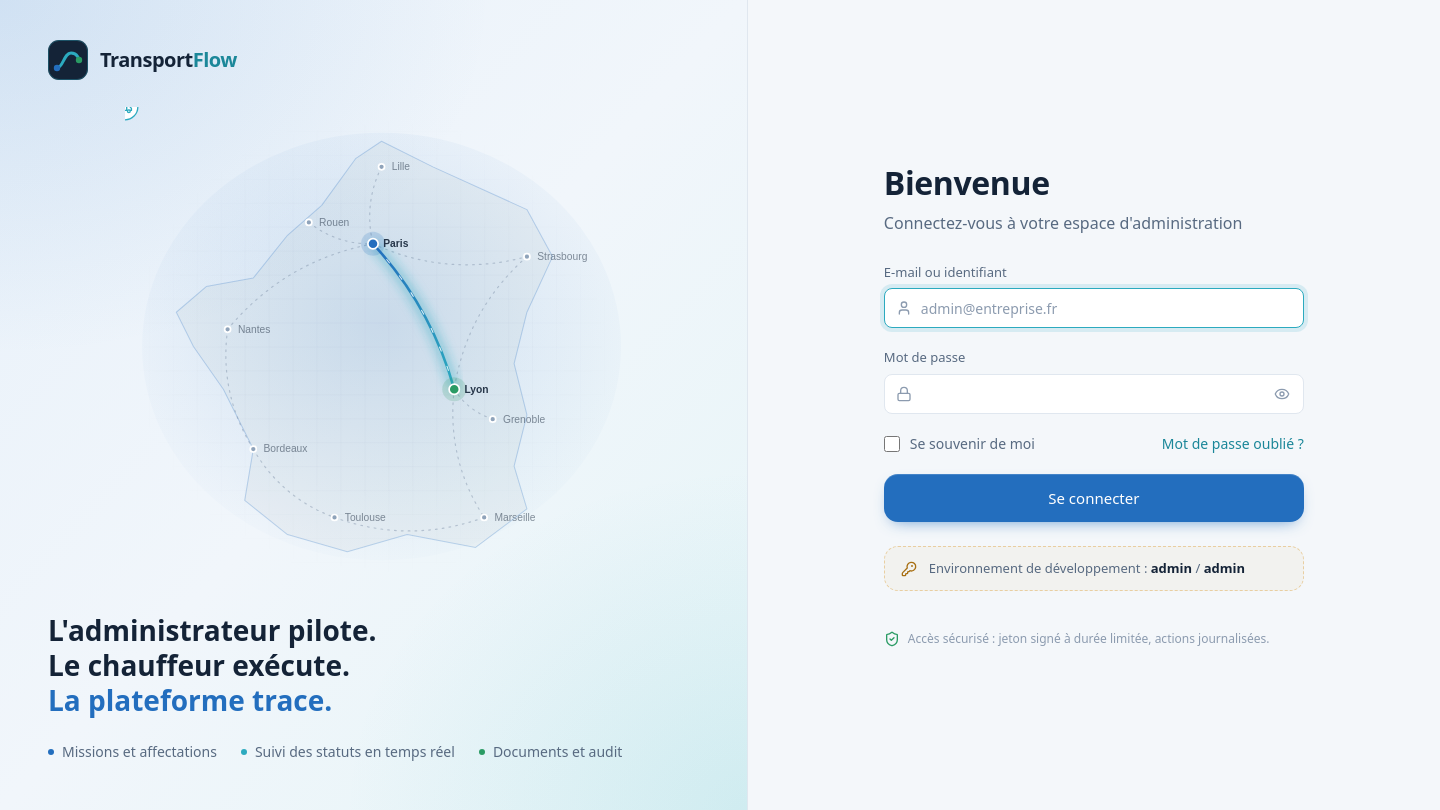
Test: Connexion › valide les champs avant tout appel API
The image size is (1440, 810).
Click the button "Se connecter": [1094, 498] box [884,474,1304,522]
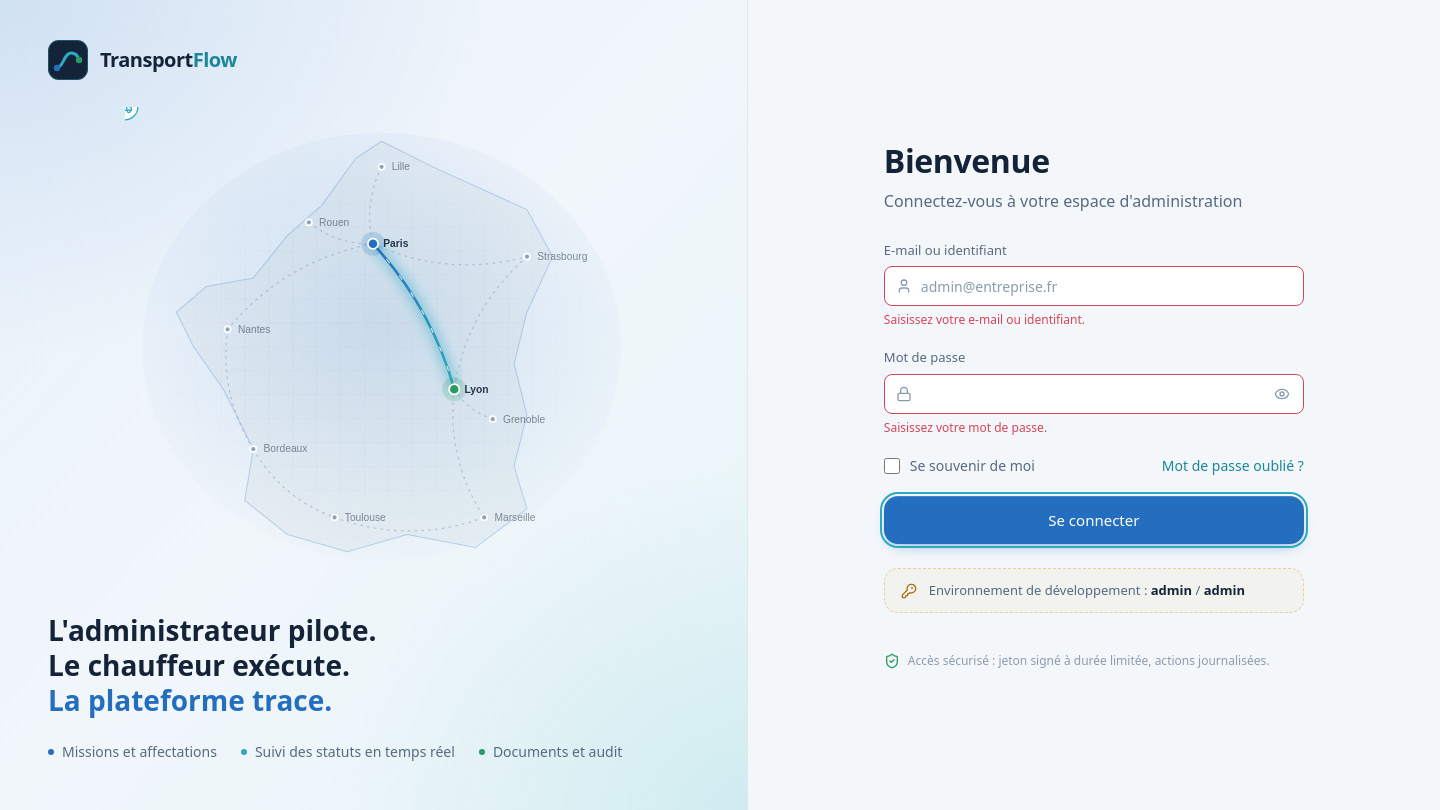
Expected: the text "Saisissez votre e-mail ou identifiant." is shown, [884,311,1085,328]
Expected: the text "Saisissez votre mot de passe." is shown, [884,419,1047,436]
